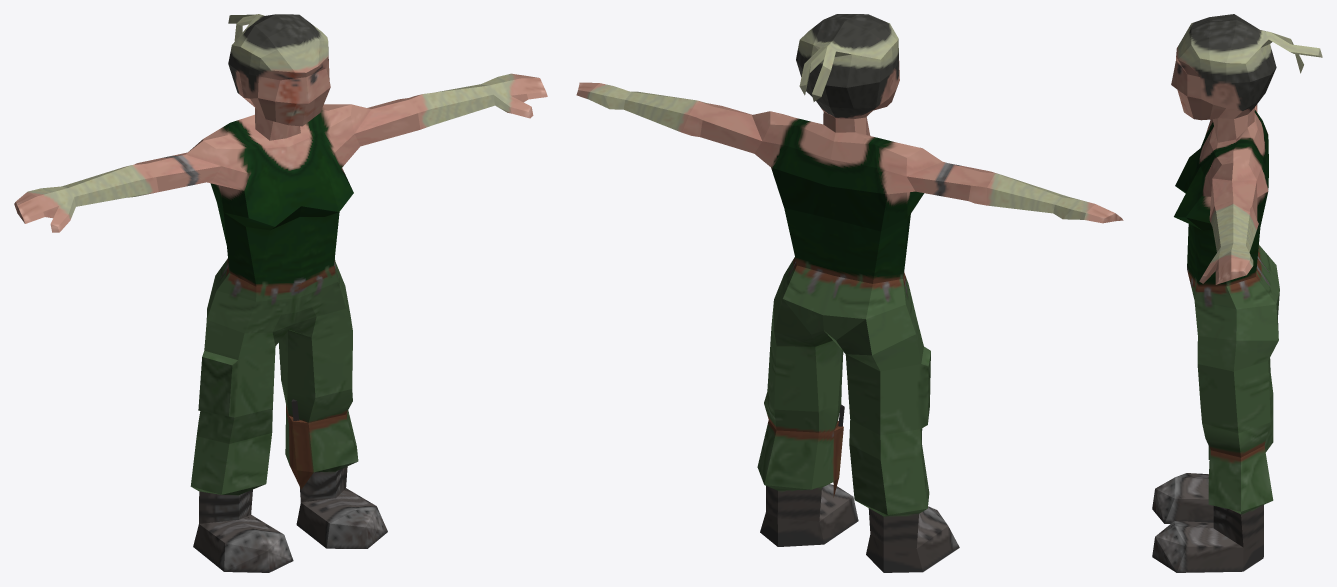
The model's file is SK_MainCharacter.fbx.
The picture shows the model from 3 angles, left to right: view 1: azimuth 30°, elevation 25°; view 2: azimuth 150°, elevation 25°; view 3: azimuth 270°, elevation 25°; orthographic projection. The views are drawn at different scales.
Parts seen in each view (by area): view 1: SK_MainCharacter; view 2: SK_MainCharacter; view 3: SK_MainCharacter.
Part boxes in pixels (bbox=[...]): SK_MainCharacter: bbox=[14, 14, 547, 572]; SK_MainCharacter: bbox=[576, 14, 1123, 572]; SK_MainCharacter: bbox=[1152, 14, 1322, 572].
Size of the model in its own units: 0.4791 by 0.4515 by 0.1362.
Materials: 1 (1 with a texture image).
